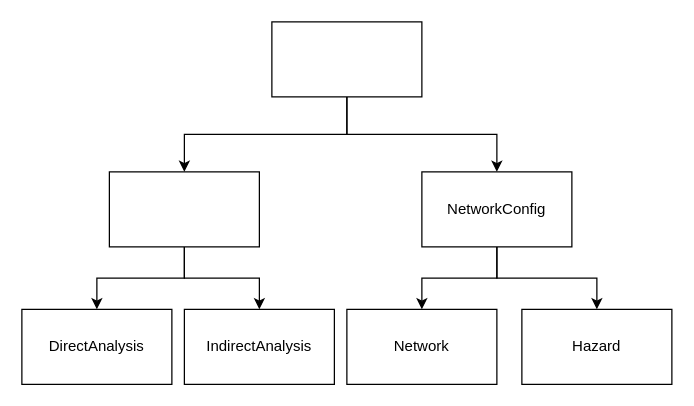
Image size: 694x406. Some labels were removed from this diagram. The centre of each missing label's shape, as x and y in pixels:
AnalysisConfig: (x=183, y=209)
ConfigWrapper: (x=346, y=59)
